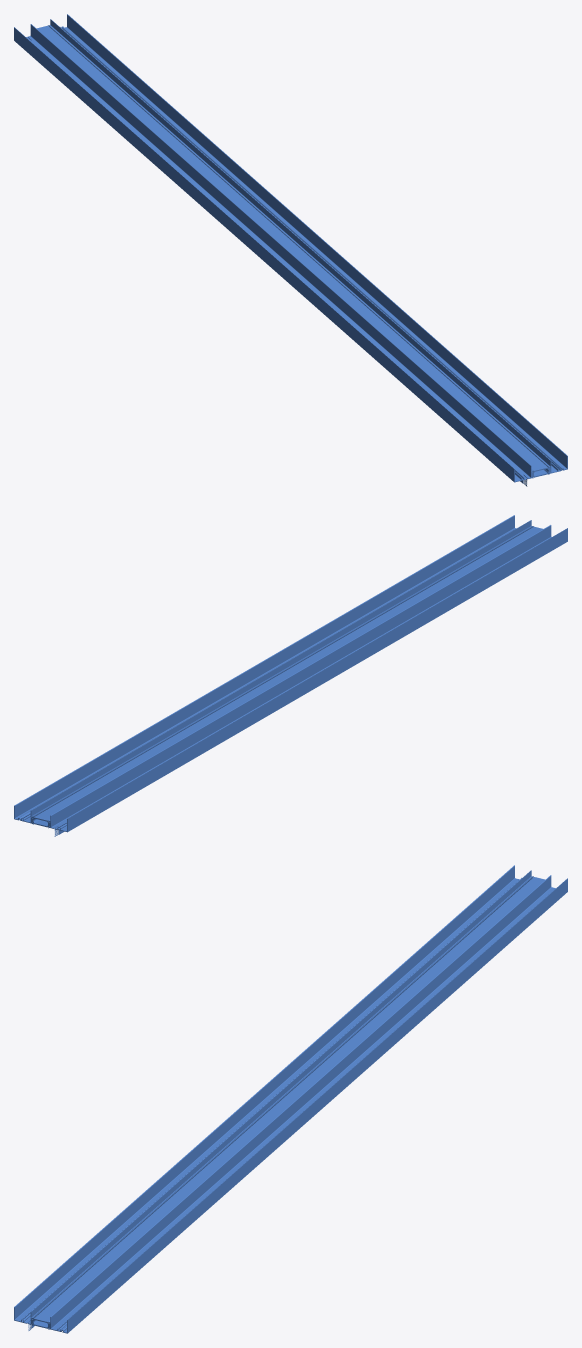
File: left-p2-rcv-t-t02.glb
3 renders of one model, top to bottom at view 1: azimuth 30°, elevation 25°; view 2: azimuth 150°, elevation 25°; view 3: azimuth 330°, elevation 25°, orthographic.
Parts seen in each view (by area): view 1: LEFT P2_RCV_T T02; view 2: LEFT P2_RCV_T T02; view 3: LEFT P2_RCV_T T02.
Boxes of the visible parts, left/top/right/bottom form: LEFT P2_RCV_T T02: left=14, top=14, right=567, bottom=486; LEFT P2_RCV_T T02: left=14, top=515, right=567, bottom=836; LEFT P2_RCV_T T02: left=14, top=865, right=567, bottom=1333.
Bounding box in the file's own units: 0.00418 × 0.00726 × 0.0676.
